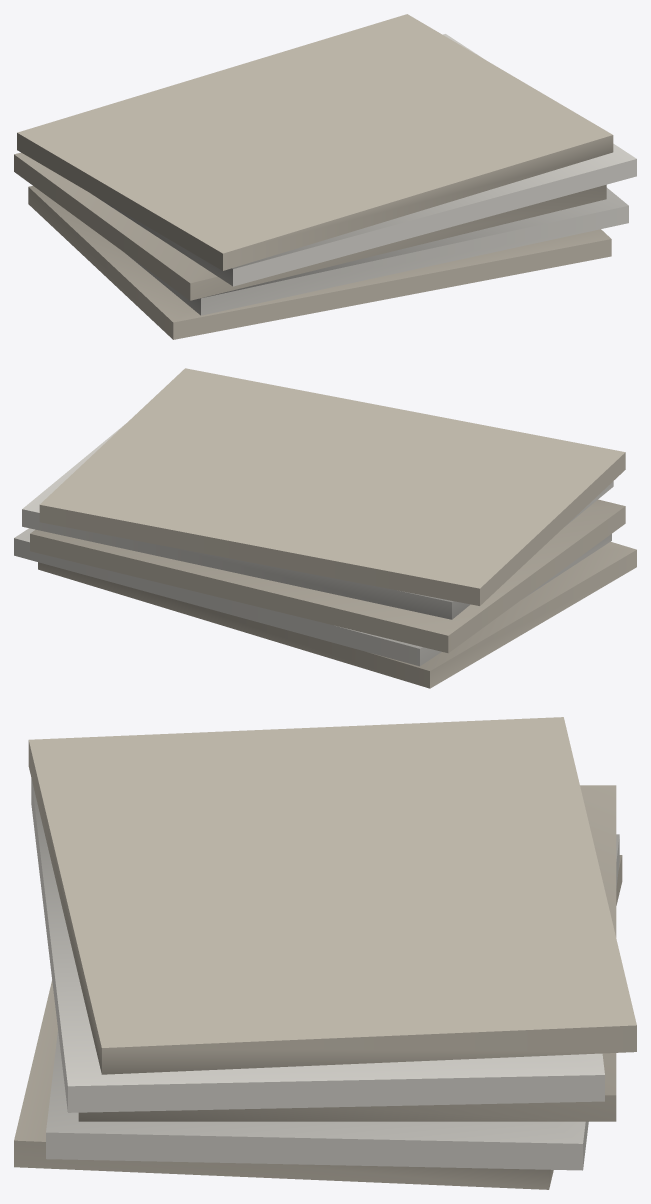
The model's file is magazine_pile.glb.
3 renders of one model, top to bottom at view 1: azimuth 30°, elevation 25°; view 2: azimuth 150°, elevation 25°; view 3: azimuth 270°, elevation 25°, orthographic. The views are drawn at different scales.
Parts seen in each view (by area): view 1: magazine_pile; view 2: magazine_pile; view 3: magazine_pile.
Boxes of the visible parts, left/top/right/bottom form: magazine_pile: left=14, top=14, right=636, bottom=339; magazine_pile: left=14, top=368, right=636, bottom=688; magazine_pile: left=14, top=717, right=636, bottom=1189.
Bounding box in the file's own units: 0.3295 × 0.064 × 0.2549.
